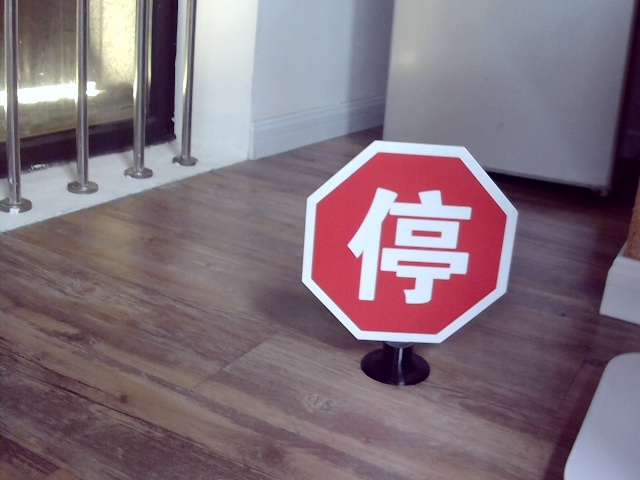stop: (349, 185, 473, 303)
